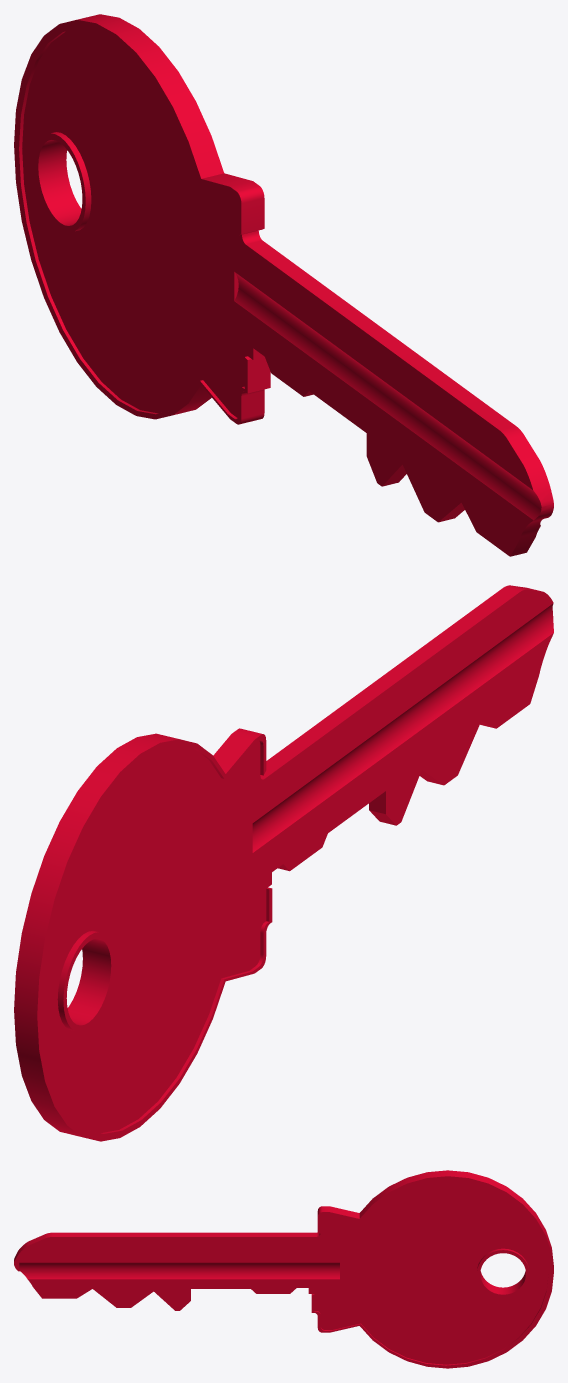
The model's file is SM_Key.fbx.
3 views of the same model, one above another, from view 1: azimuth 30°, elevation 25°; view 2: azimuth 150°, elevation 25°; view 3: azimuth 270°, elevation 25° (orthographic). The views are drawn at different scales.
Visible parts, largest first — view 1: Cylinder; view 2: Cylinder; view 3: Cylinder.
Boxes of the visible parts, x1=… form: Cylinder: x1=14, y1=14, x2=553, y2=556; Cylinder: x1=14, y1=585, x2=553, y2=1141; Cylinder: x1=14, y1=1170, x2=553, y2=1368.
Size of the model in its own units: 8.11 by 102 by 259.
